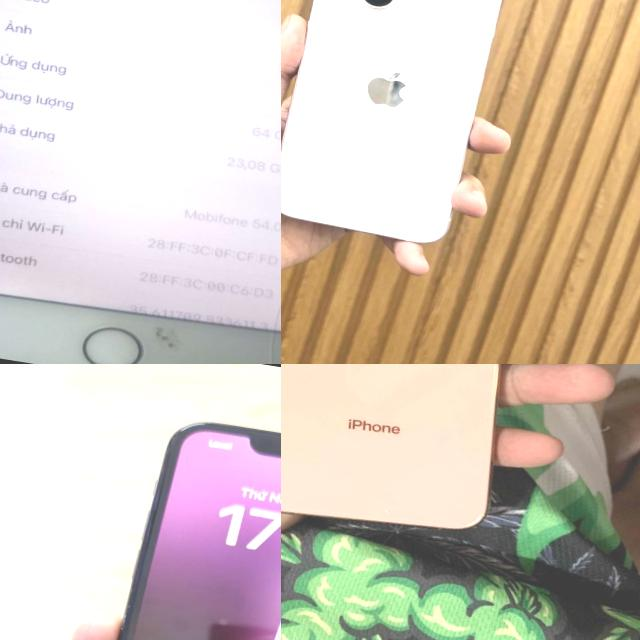gen_11: (23, 387, 281, 640)
gen_12_13: (281, 0, 515, 267)
gen_7_8: (0, 0, 281, 364)
gen_x_xs: (281, 364, 568, 556)
physical_damage: (250, 226, 281, 364)
scratch: (148, 319, 190, 354), (366, 494, 408, 524)
